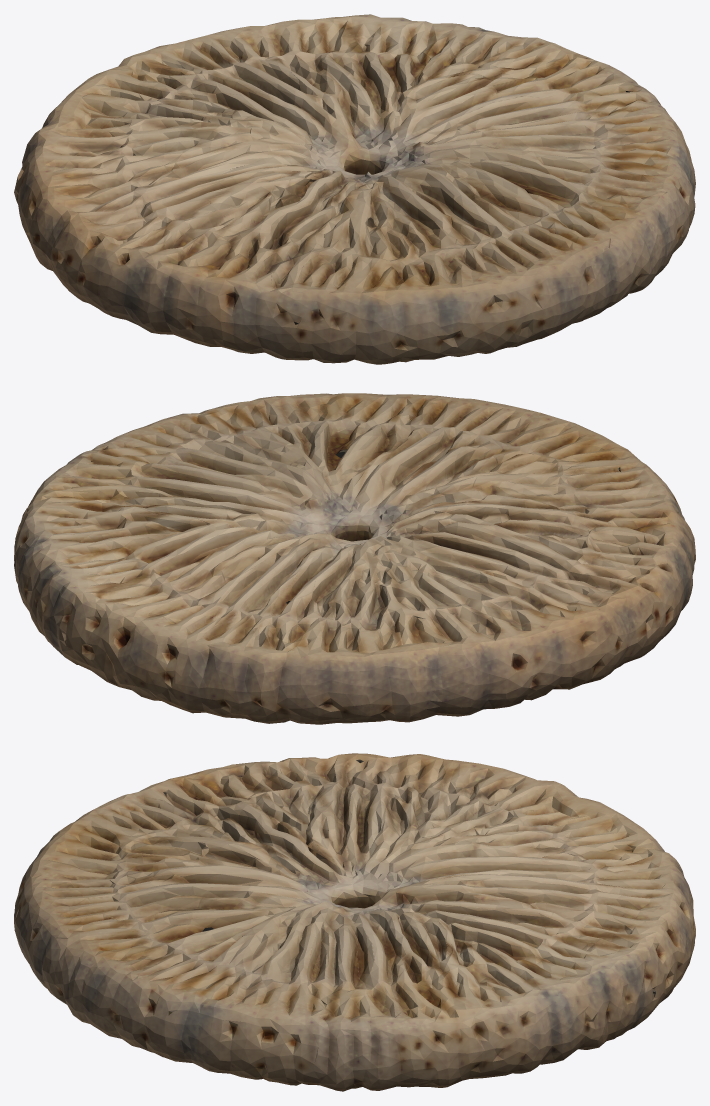
3 renders of one model, top to bottom at view 1: azimuth 30°, elevation 25°; view 2: azimuth 150°, elevation 25°; view 3: azimuth 270°, elevation 25°, orthographic. The views are drawn at different scales.
Visible parts, largest first — view 1: world; view 2: world; view 3: world.
Part boxes in pixels (x1,y1,x2,y2): world: (14,14,695,364); world: (14,393,695,724); world: (14,753,695,1091).
Size of the model in its own units: 0.916 by 0.1452 by 0.9186.
1 material, 1 textured.
